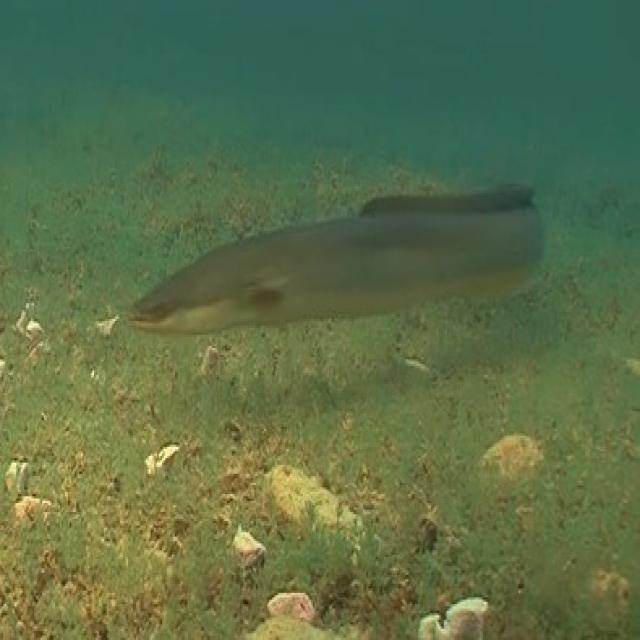Freshwater-Eel: (75, 145, 582, 385)
